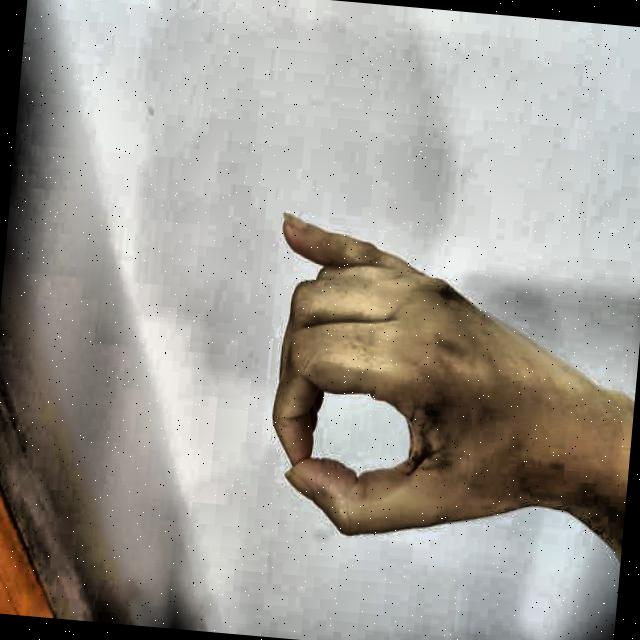Ou: (223, 160, 602, 588)
